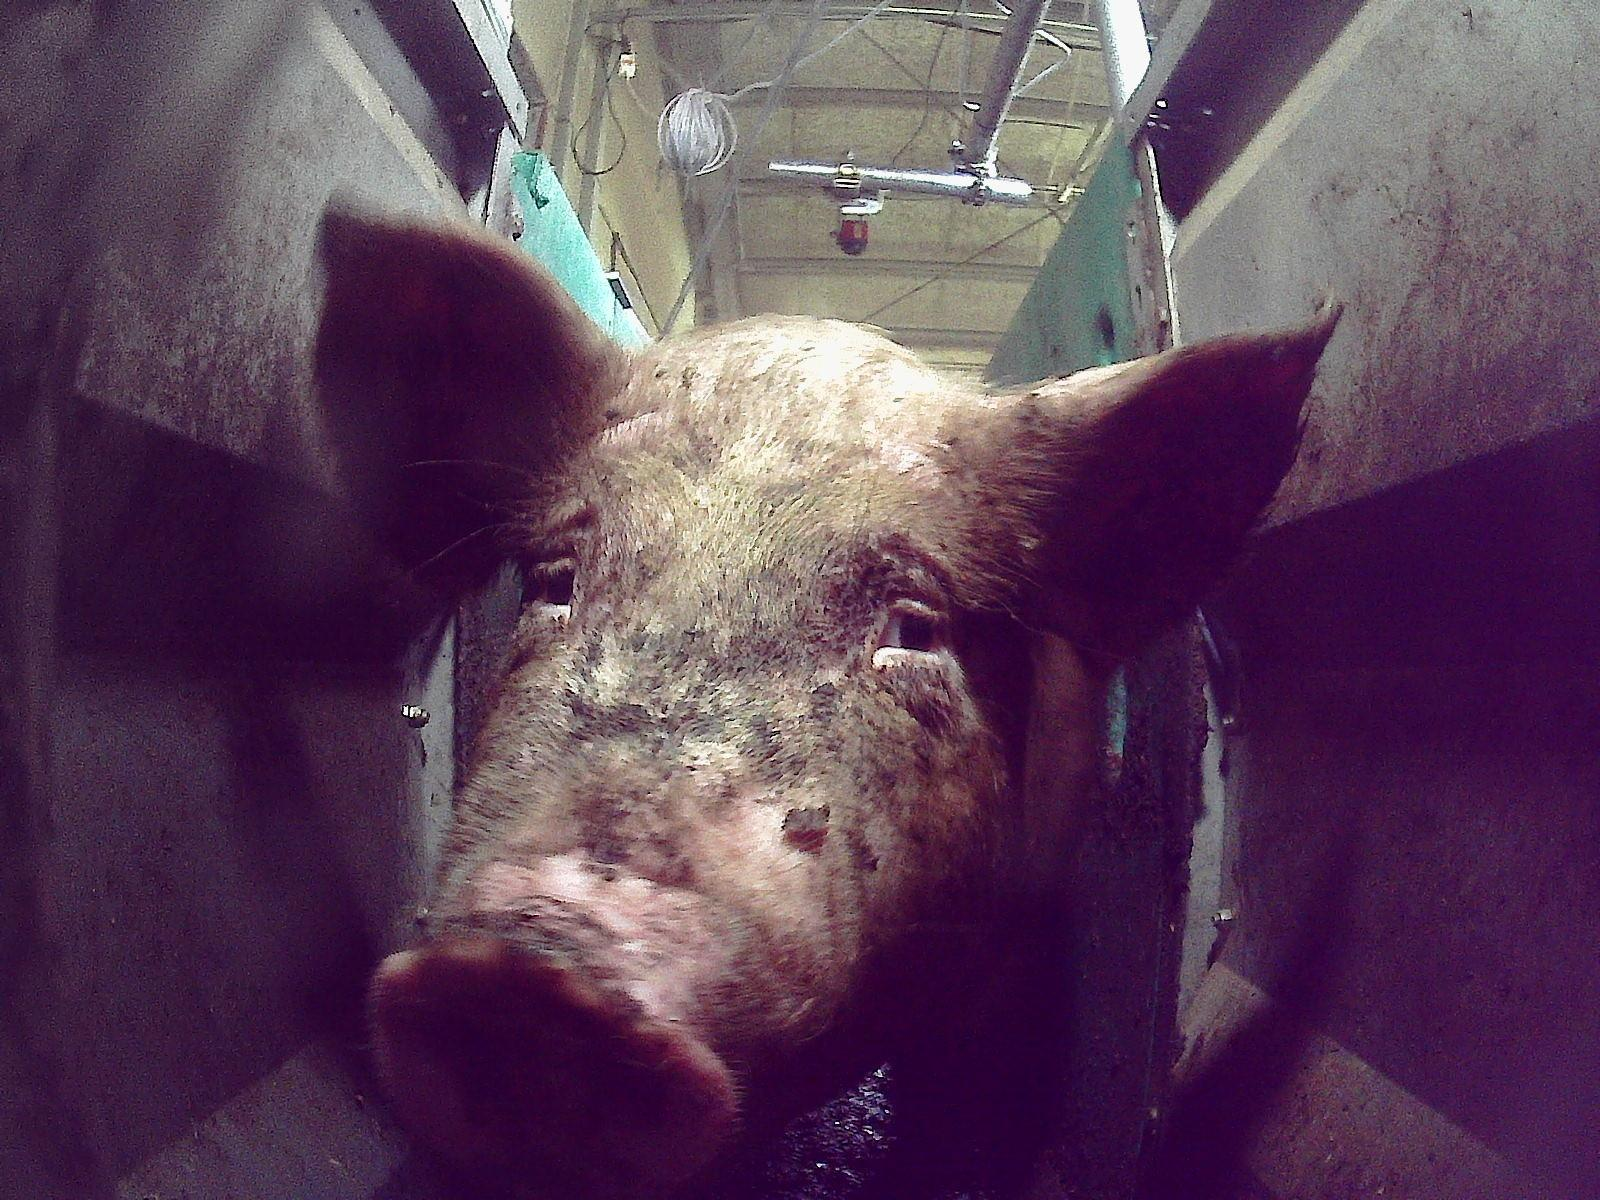Face: (369, 385, 1018, 1192)
